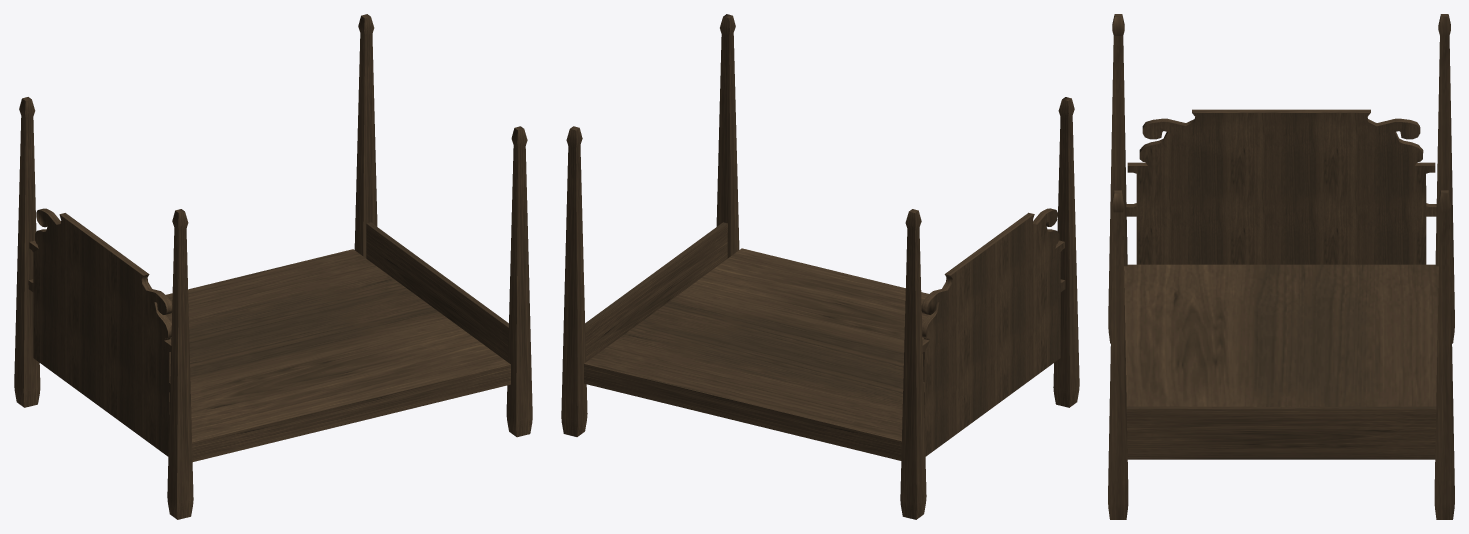
The model's file is Bedframe.FBX.
3 renders of one model, left to right at view 1: azimuth 30°, elevation 25°; view 2: azimuth 150°, elevation 25°; view 3: azimuth 270°, elevation 25°, orthographic. The views are drawn at different scales.
Parts seen in each view (by area): view 1: bedframe; view 2: bedframe; view 3: bedframe.
Part boxes in pixels (x1,y1,x2,y2): bedframe: (14,14,532,519); bedframe: (561,14,1079,519); bedframe: (1108,14,1454,519).
Bounding box in the file's own units: 238 × 195 × 189.
Materials: 1 (1 with a texture image).
